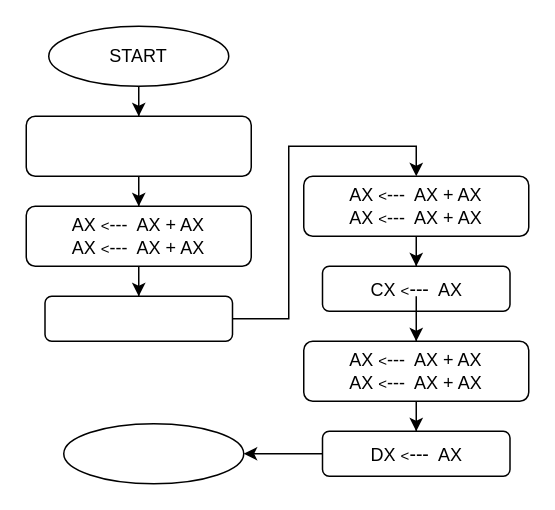
Some shapes in this 555 by 510 pixel diagram are drawn without their labels. The centre of each missing label's shape, as x and y in pixels:
AX < --- 4: (138,145)
BX < --- AX: (138,318)
END: (153,453)
